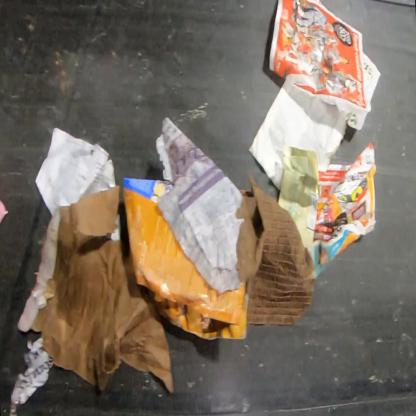cardboard: (122, 176, 248, 340), (235, 170, 318, 326)
